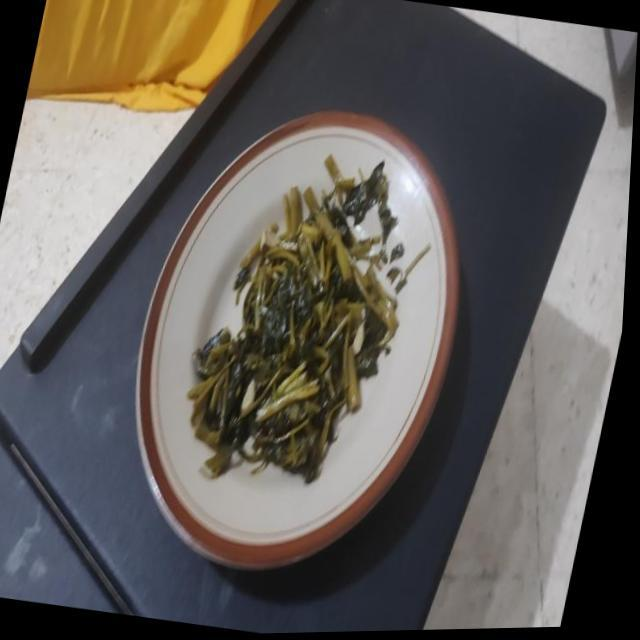tumis_kangkung: (188, 155, 398, 483)
